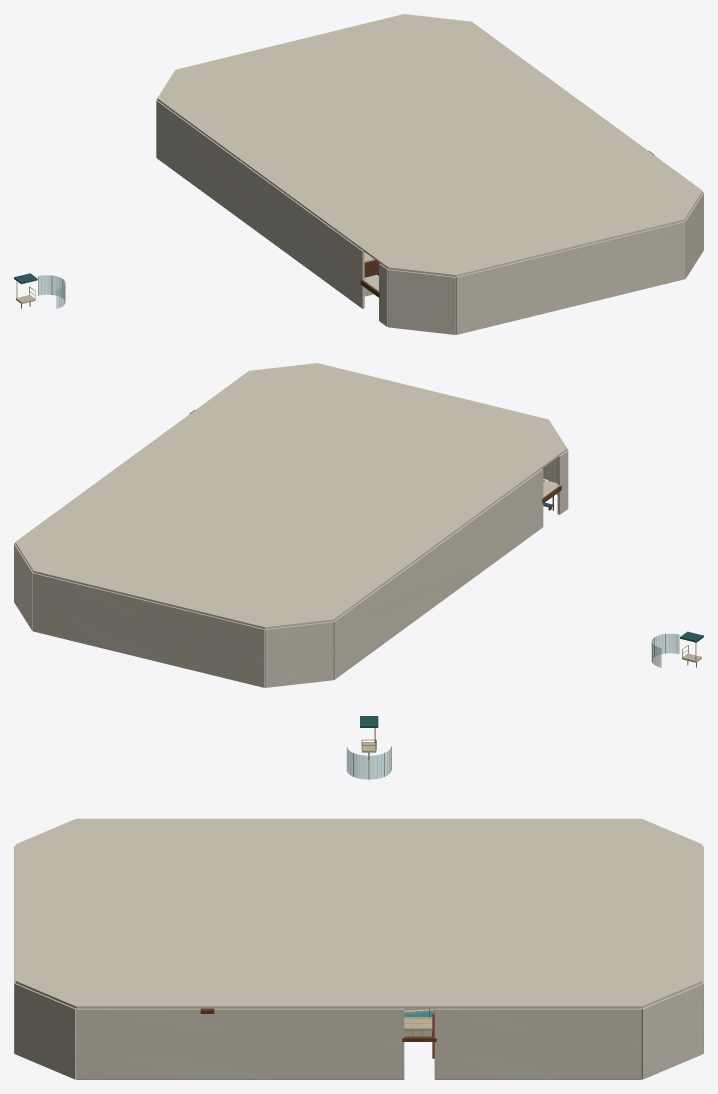
The model's file is AquaticCompletion_r008.glb.
3 views of the same model, one above another, from view 1: azimuth 30°, elevation 25°; view 2: azimuth 150°, elevation 25°; view 3: azimuth 270°, elevation 25° (orthographic). The views are drawn at different scales.
Visible parts, largest first — view 1: AQ6_BATCH_roof_asset_ASTRAEA_ivory_enamel, AQ6_BATCH_architecture_ASTRAEA_ivory_enamel, AQ6_BATCH_architecture_AQD_glass; view 2: AQ6_BATCH_roof_asset_ASTRAEA_ivory_enamel, AQ6_BATCH_architecture_ASTRAEA_ivory_enamel, AQ6_BATCH_architecture_AQD_glass; view 3: AQ6_BATCH_roof_asset_ASTRAEA_ivory_enamel, AQ6_BATCH_architecture_ASTRAEA_ivory_enamel, AQ6_BATCH_architecture_AQD_glass.
Part boxes in pixels (x1,y1,x2,y2): AQ6_BATCH_roof_asset_ASTRAEA_ivory_enamel: (157, 14, 702, 276); AQ6_BATCH_architecture_ASTRAEA_ivory_enamel: (156, 98, 703, 334); AQ6_BATCH_architecture_AQD_glass: (38, 275, 65, 308); AQ6_BATCH_roof_asset_ASTRAEA_ivory_enamel: (15, 363, 567, 629); AQ6_BATCH_architecture_ASTRAEA_ivory_enamel: (14, 449, 568, 687); AQ6_BATCH_architecture_AQD_glass: (651, 633, 679, 667); AQ6_BATCH_roof_asset_ASTRAEA_ivory_enamel: (15, 818, 702, 1008); AQ6_BATCH_architecture_ASTRAEA_ivory_enamel: (14, 846, 703, 1079); AQ6_BATCH_architecture_AQD_glass: (346, 747, 391, 779).
Bounding box in the file's own units: 79.52 × 9.15 × 68.32.
Materials: 19 (16 with a texture image).
